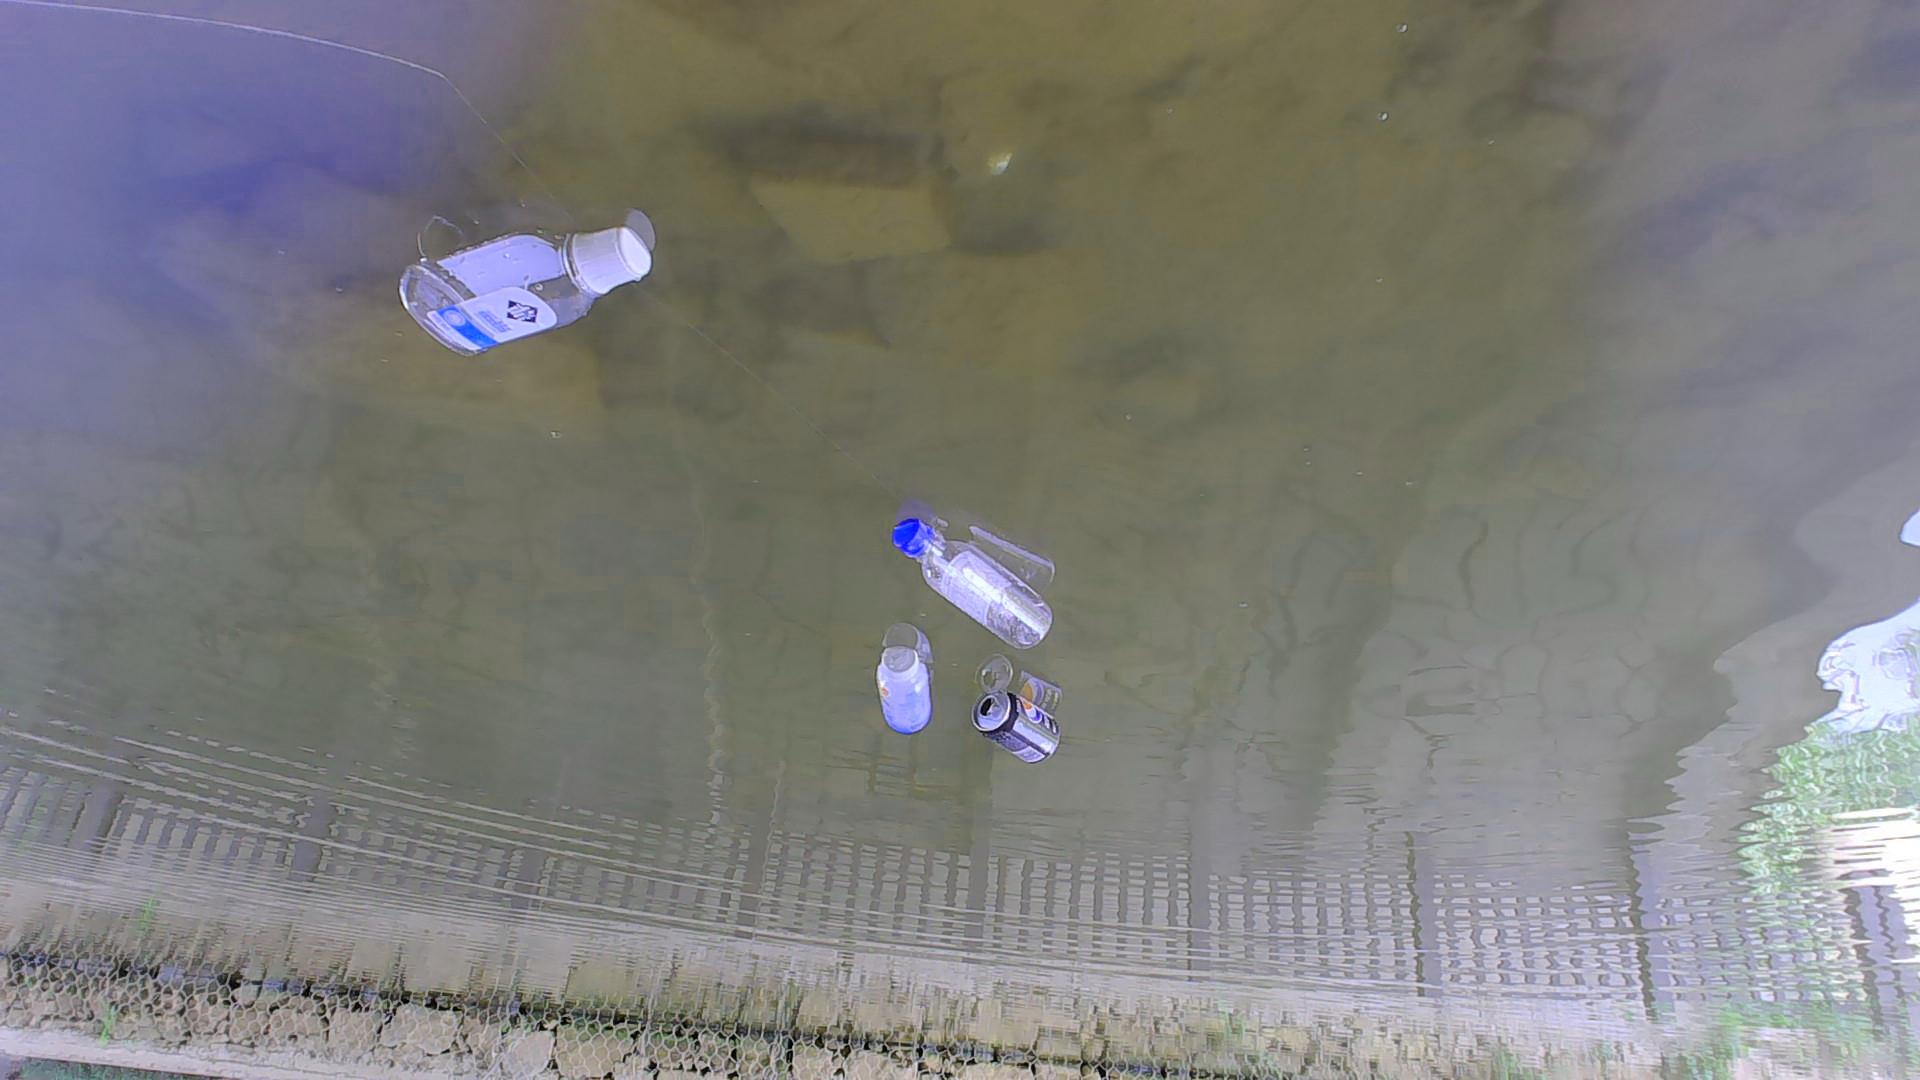Glass: (392, 211, 659, 360), (884, 521, 1055, 650)
Metal: (964, 690, 1063, 766)
Plastic: (866, 644, 934, 746)
